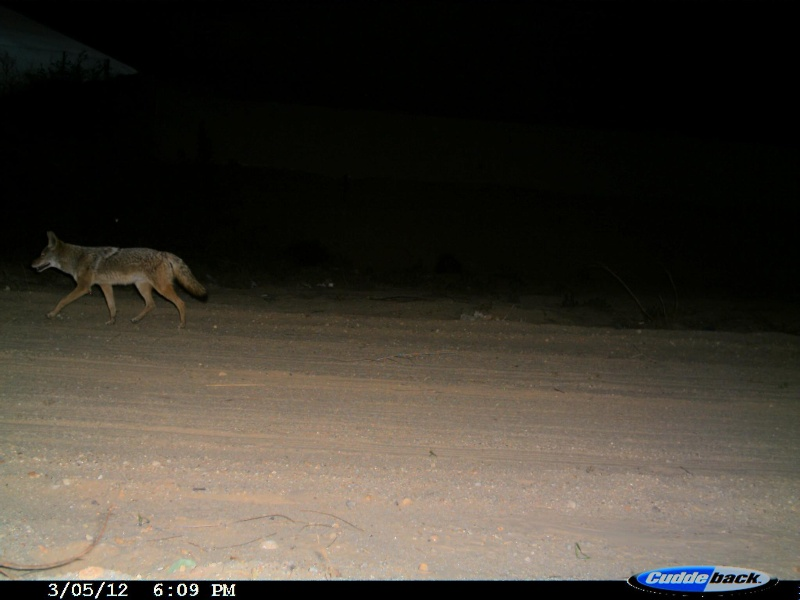coyote: (32, 231, 211, 335)
